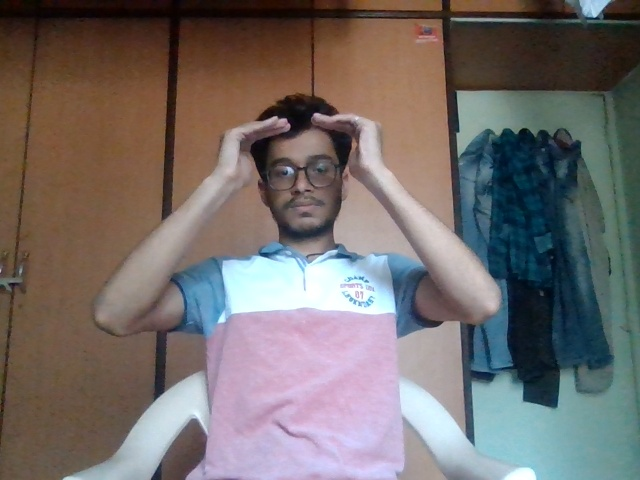afternoon: (206, 106, 428, 224)
